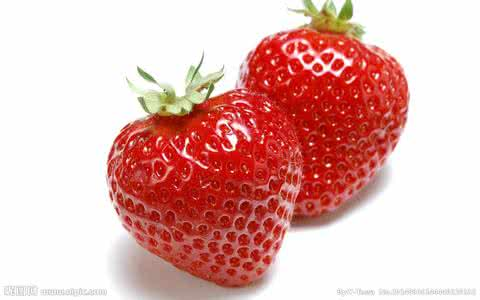strawberry: (112, 70, 295, 287), (243, 5, 414, 218)
